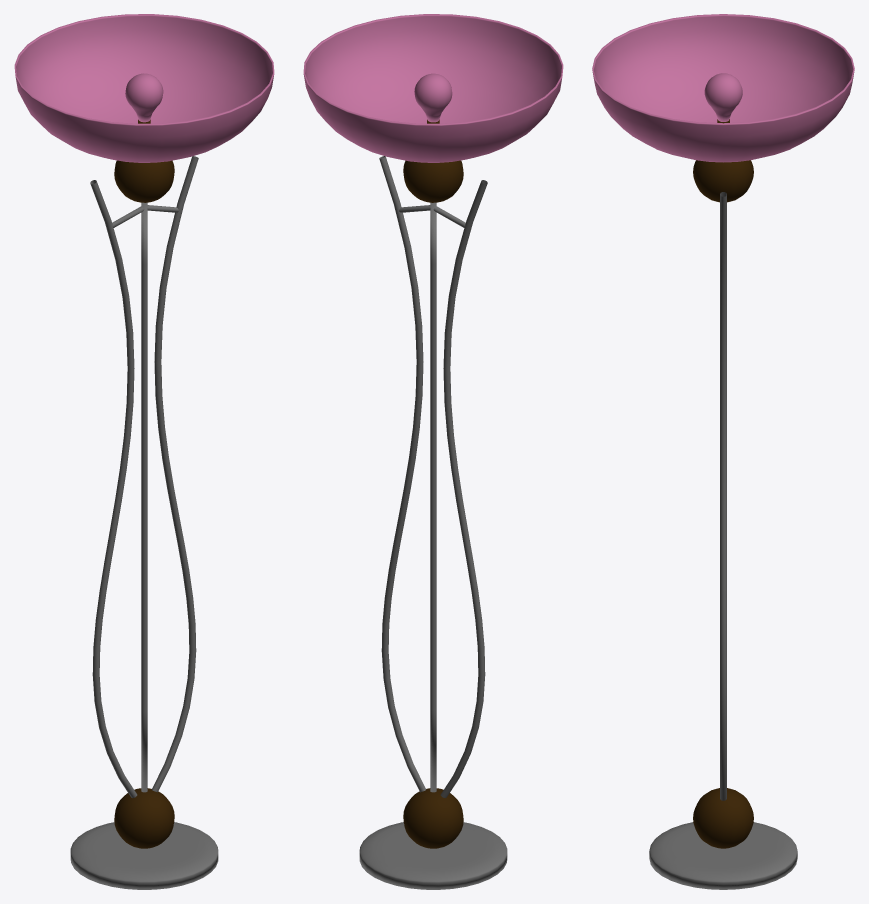
File: floorlamp3.glb
3 renders of one model, left to right at view 1: azimuth 30°, elevation 25°; view 2: azimuth 150°, elevation 25°; view 3: azimuth 270°, elevation 25°, orthographic.
Parts seen in each view (by area): view 1: piantanaNew.001; view 2: piantanaNew.001; view 3: piantanaNew.001.
Part boxes in pixels (x1,y1,x2,y2): piantanaNew.001: (14,14,274,889); piantanaNew.001: (303,14,563,889); piantanaNew.001: (592,14,854,889).
Size of the model in its own units: 59.61 by 200 by 60.27.
